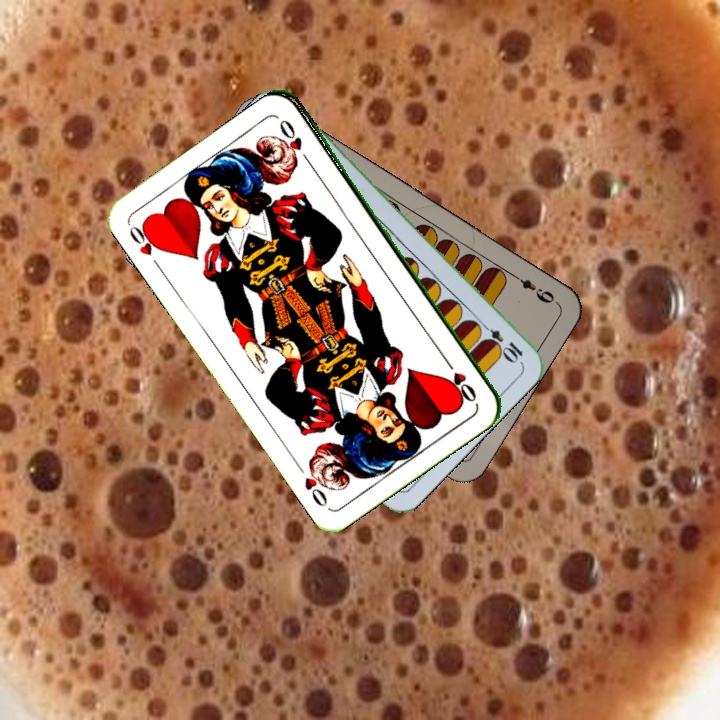E10: (475, 318, 526, 365)
E9: (506, 269, 557, 306)
HO: (439, 354, 479, 405), (124, 218, 166, 259)
